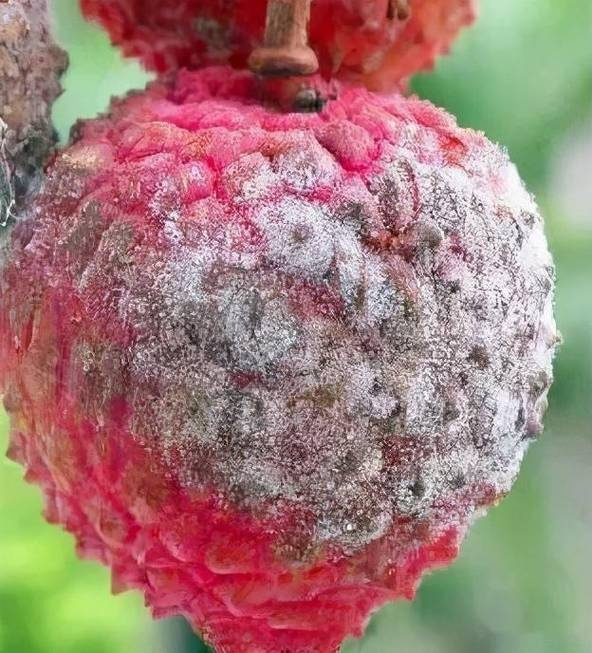Frost_Blight: (177, 137, 522, 538)
